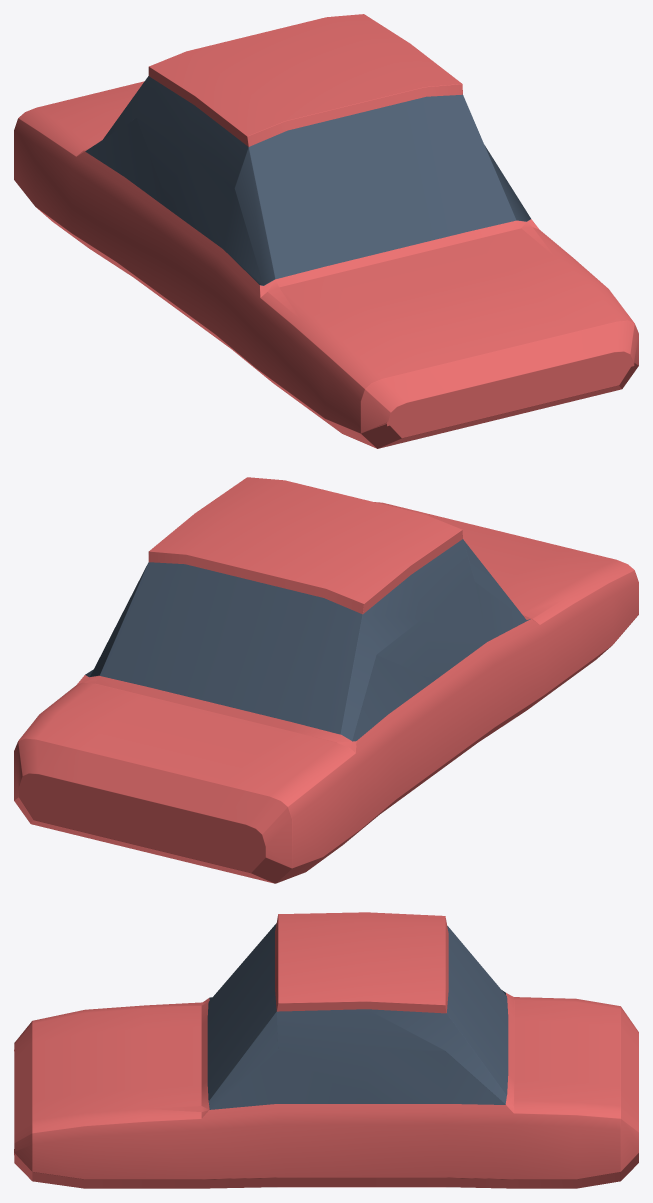
Rendered from serasi_shell.fbx.
3 views of the same model, one above another, from view 1: azimuth 30°, elevation 25°; view 2: azimuth 150°, elevation 25°; view 3: azimuth 270°, elevation 25° (orthographic). The views are drawn at different scales.
Visible parts, largest first — view 1: ShellBody, ShellGlass; view 2: ShellBody, ShellGlass; view 3: ShellBody, ShellGlass.
Boxes of the visible parts, x1,y1,x2,y2 form: ShellBody: (14,14,638,448); ShellGlass: (85,76,530,285); ShellBody: (14,477,638,883); ShellGlass: (85,539,530,741); ShellBody: (14,912,638,1188); ShellGlass: (207,923,508,1109).
Bounding box in the file's own units: 7 × 5.05 × 15.5.
